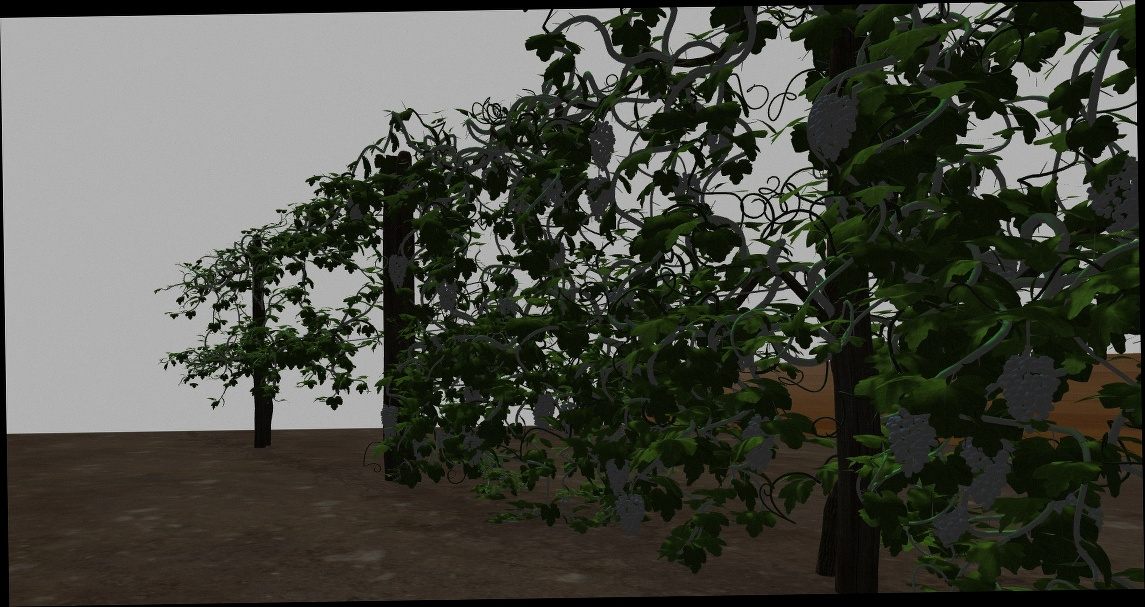grape: (995, 349, 1060, 426), (1086, 149, 1136, 241), (804, 90, 860, 167), (963, 435, 1015, 509), (885, 410, 939, 479), (743, 414, 776, 474), (930, 507, 970, 549), (588, 120, 617, 173), (614, 494, 646, 538), (586, 175, 613, 224), (529, 392, 557, 432), (605, 457, 631, 495), (435, 277, 460, 313), (461, 436, 485, 469), (387, 254, 408, 291), (379, 405, 400, 438), (540, 178, 566, 203), (345, 197, 365, 223)
